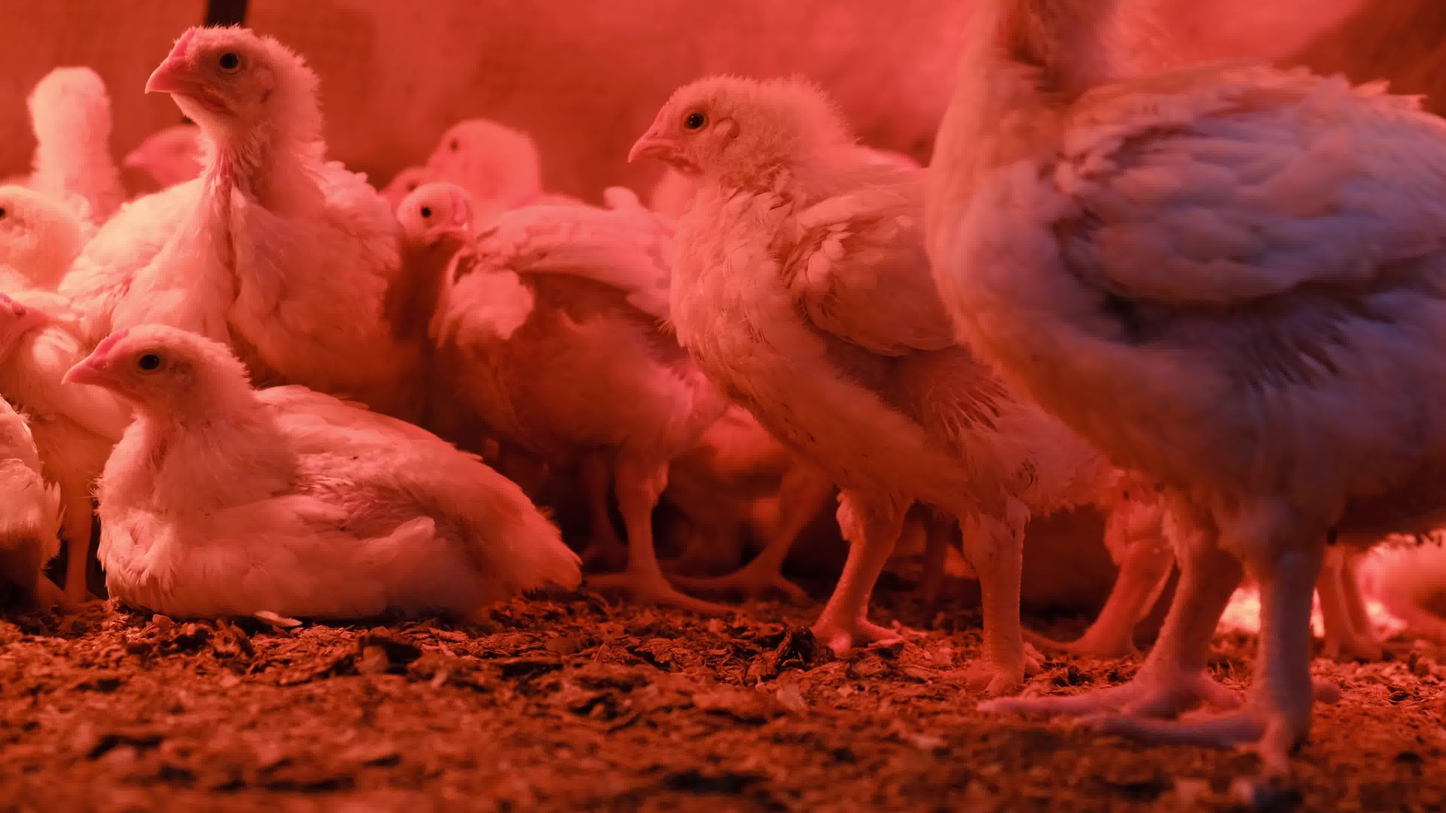AbNormal: (64, 324, 582, 616), (0, 285, 63, 614)
Normal: (921, 0, 1446, 769), (629, 74, 1106, 691), (430, 120, 737, 616), (51, 23, 405, 431), (0, 170, 144, 610), (390, 179, 472, 432), (27, 61, 125, 237), (123, 117, 217, 197), (379, 158, 442, 202)
